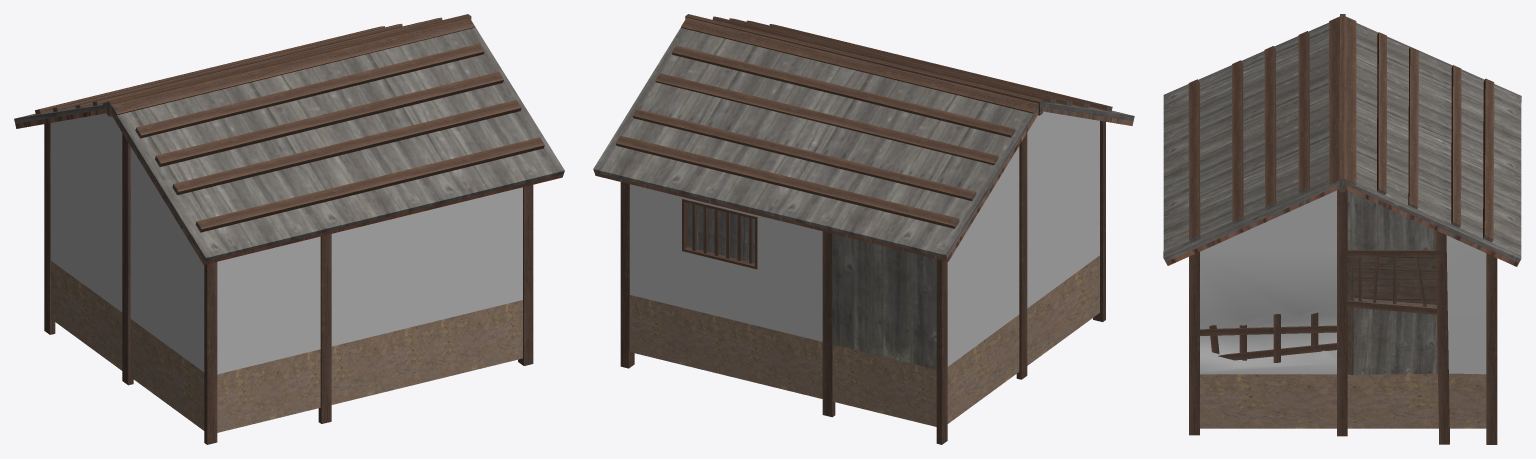
The model's file is jov_shed02b.fbx.
The picture shows the model from 3 angles, left to right: view 1: azimuth 30°, elevation 25°; view 2: azimuth 150°, elevation 25°; view 3: azimuth 270°, elevation 25°; orthographic projection. The views are drawn at different scales.
Parts seen in each view (by area): view 1: jov_shed02b; view 2: jov_shed02b; view 3: jov_shed02b.
Part boxes in pixels (box(x1,y1,x2,y2)): jov_shed02b: box(14, 14, 564, 444); jov_shed02b: box(593, 14, 1134, 444); jov_shed02b: box(1163, 14, 1521, 444).
Bounding box in the file's own units: 553 × 430 × 510.
